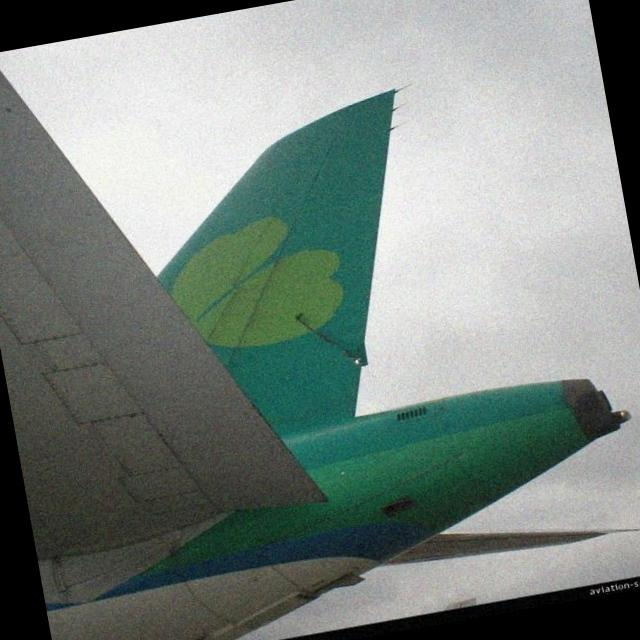crack: (290, 303, 368, 377)
